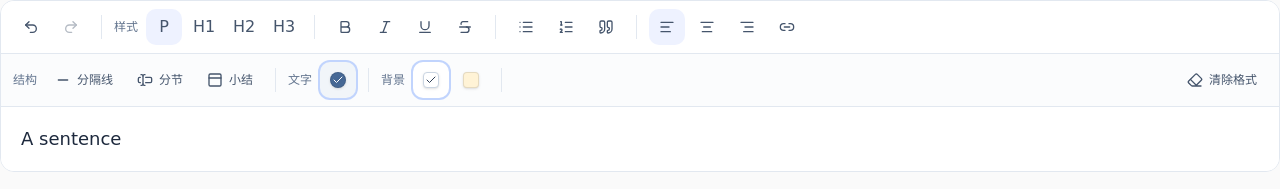
Test: shared simple editor › undoes and redoes pasted text with functional toolbar buttons
Step 1. Click the button named "撤销" → {"x": 31, "y": 27}, box x1=13 y1=9 x2=49 y2=45
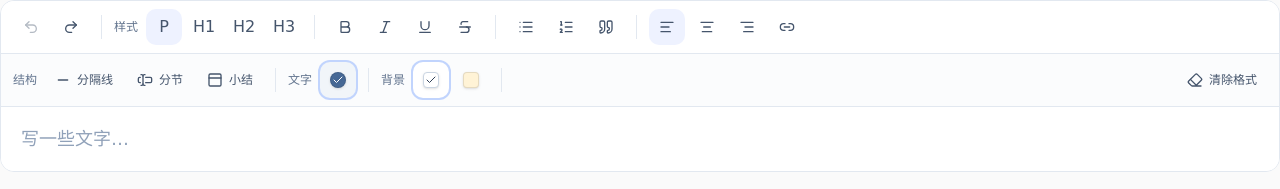
Expected: the field named "复用文本编辑器" no longer shows "A sentence", x1=1 y1=107 x2=1279 y2=171
Step 2. Click the button named "重做" → {"x": 71, "y": 27}, box x1=53 y1=9 x2=89 y2=45
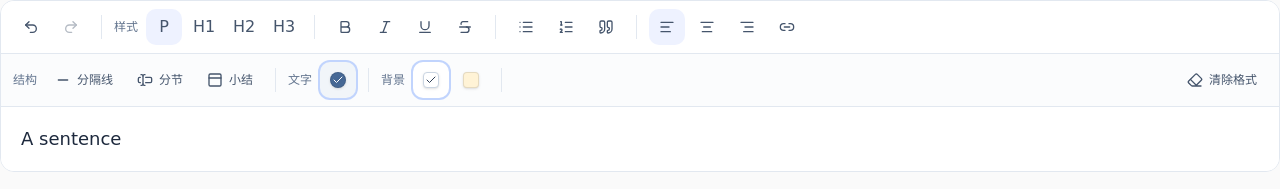
Expected: the field named "复用文本编辑器" reads "A sentence", x1=21 y1=128 x2=121 y2=149
